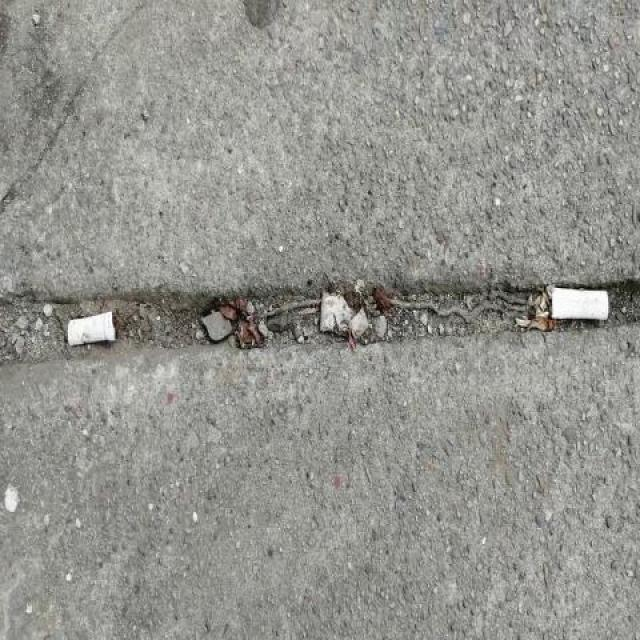non-organic waste: (61, 306, 120, 351), (549, 282, 611, 323)
